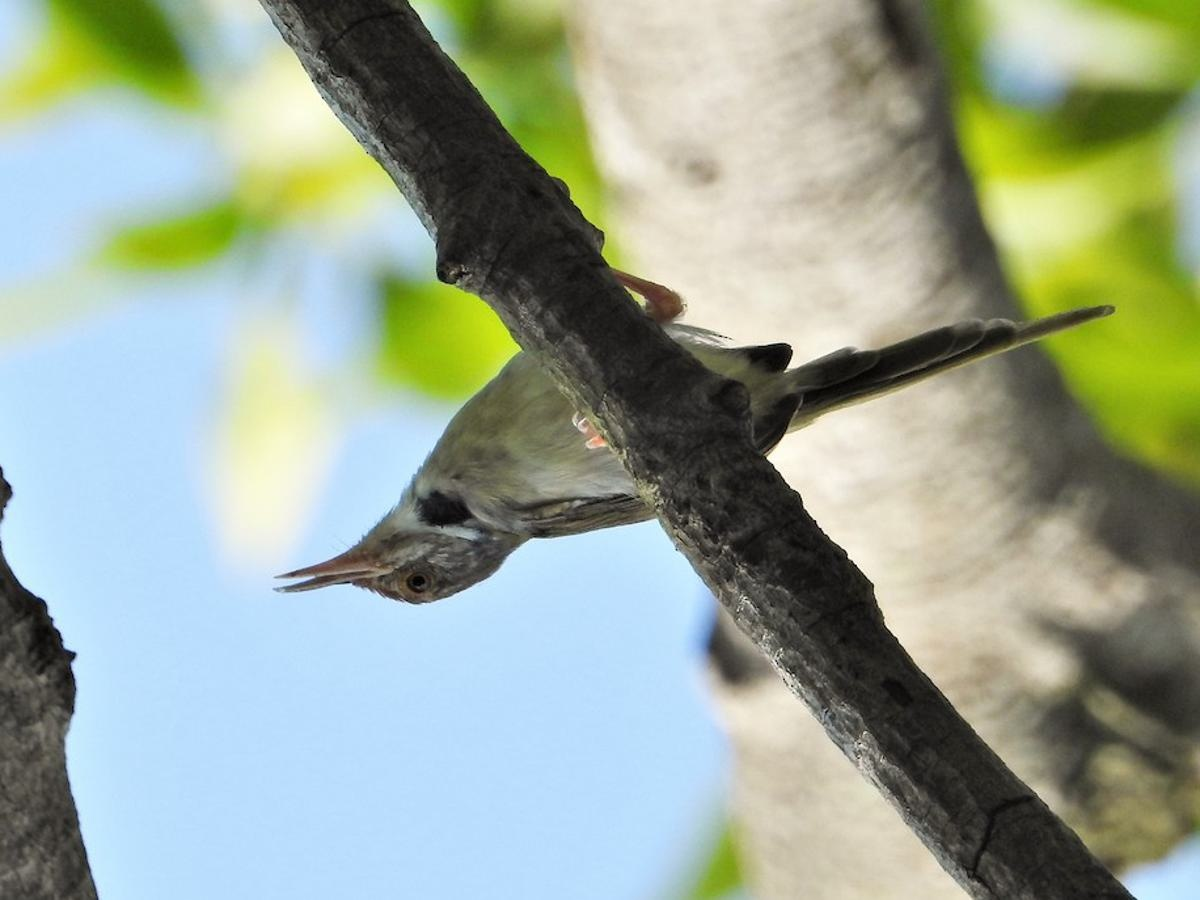tailorbird: (298, 285, 1158, 610)
